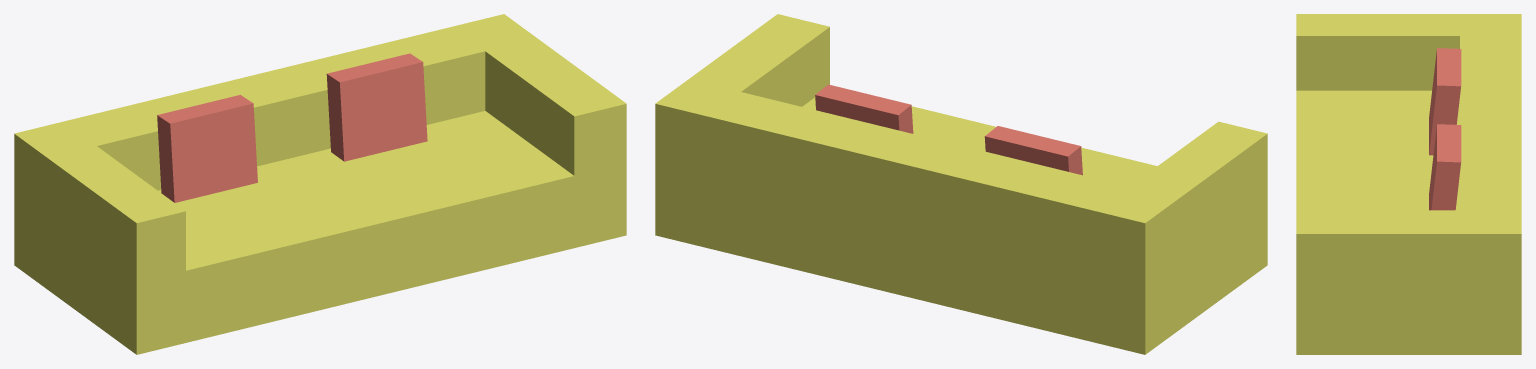
The model's file is sofá.glb.
3 renders of one model, left to right at view 1: azimuth 30°, elevation 25°; view 2: azimuth 150°, elevation 25°; view 3: azimuth 270°, elevation 25°, orthographic. The views are drawn at different scales.
Parts seen in each view (by area): view 1: Cube; view 2: Cube; view 3: Cube.
Boxes of the visible parts, x1,y1,x2,y2 form: Cube: [14, 14, 626, 354]; Cube: [655, 14, 1267, 354]; Cube: [1296, 14, 1521, 354].
Size of the model in its own units: 6.19 by 1.79 by 2.68.
